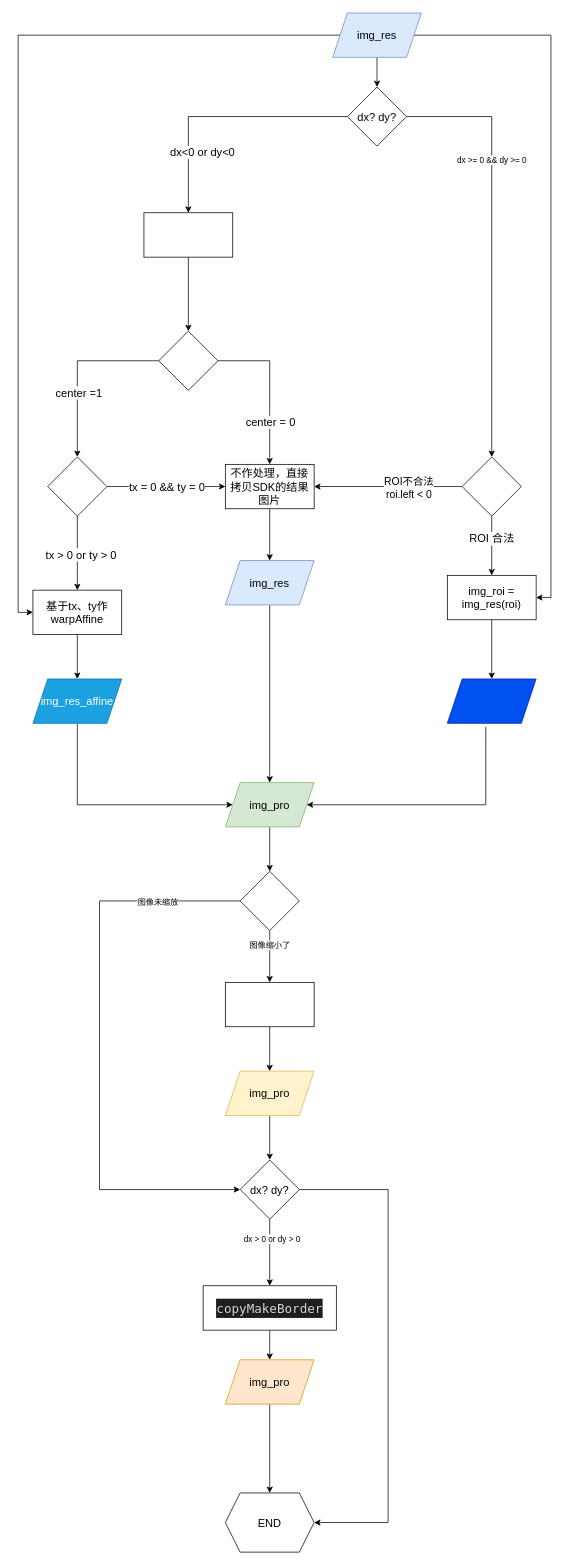
This 570x1565 diagram has some shape labels left out. The shapes that lost their labels are listed below. From the top down, each one's centre as x and y in pixels, then its label:
(x=188, y=234): dx = -1 dy = -1
(x=188, y=360): center?
(x=77, y=486): 平移量 tx? ty?
(x=491, y=486): ROI
(x=491, y=700): img_roi
(x=269, y=901): ratio_x?ratio_y ?
(x=269, y=1004): resize
